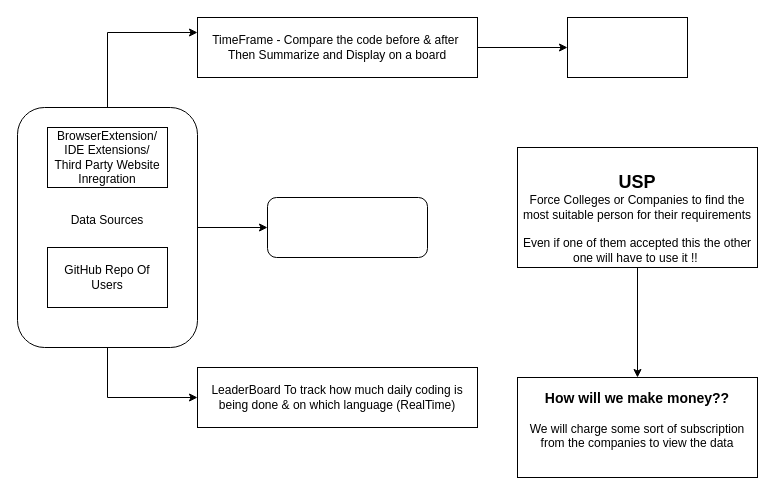
The diagram is 775 pixels wide and 495 high, and some of its shapes have lost their labels. The shapes that lost their labels are listed below. From the top down, each one's centre as x and y in pixels, then its label:
At (627,47): "Detailed View of the changes they're making to their code".
At (347,227): "Allow Tweets/Posts on socials based upon Timeframes".
